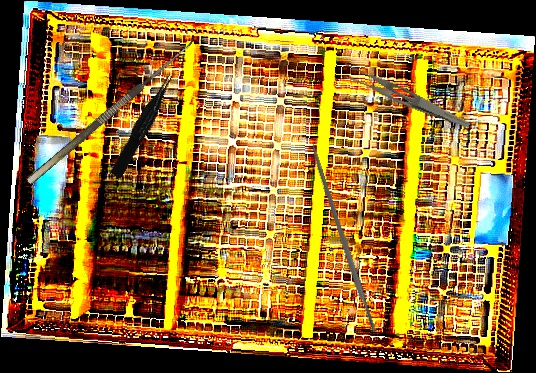Dressing Forceps: (338, 61, 476, 129)
Hook Surgical: (18, 30, 198, 185)
Scalpel Handle: (308, 143, 378, 335)
Tissue Forceps: (106, 73, 181, 179)
